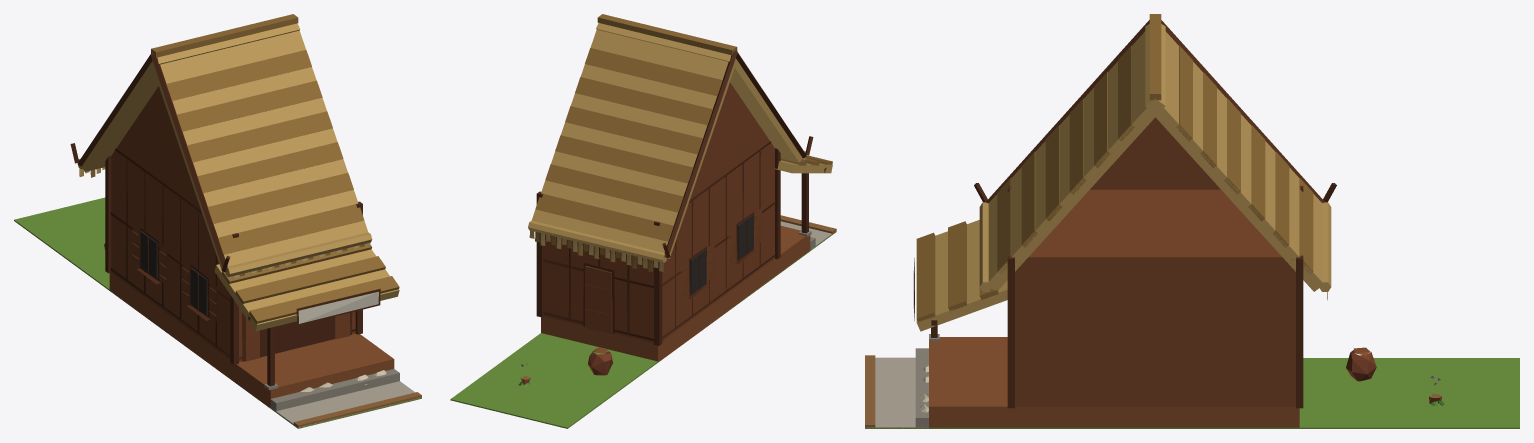
Rendered from bay2_left.glb.
3 views of the same model, side by side, from view 1: azimuth 30°, elevation 25°; view 2: azimuth 150°, elevation 25°; view 3: azimuth 270°, elevation 25° (orthographic). The views are drawn at different scales.
Visible parts, largest first — view 1: body, windows; view 2: body, windows; view 3: body.
Boxes of the visible parts, x1,y1,x2,y2 form: body: (14,14,421,428); windows: (140,231,207,315); body: (450,14,836,428); windows: (690,214,753,294); body: (865,14,1519,428).
Bounding box in the file's own units: 4.86 × 9.12 × 15.9.
